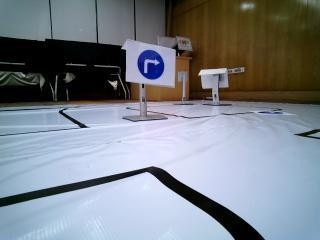right: (130, 43, 172, 87)
